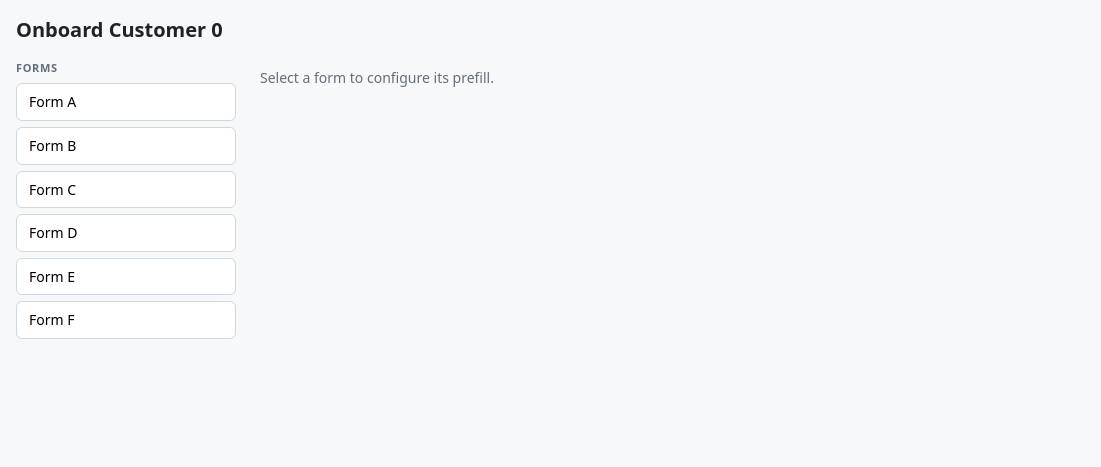
Test case: the prefill flow › turns prefill off for one form only
Check: the heading "Onboard Customer 0" is shown, box [16,16,223,43]
What coordinates should you click on to do the following:
click the button "Form D"
I would click on:
 (126, 233)
Its box is [16,214,236,252].
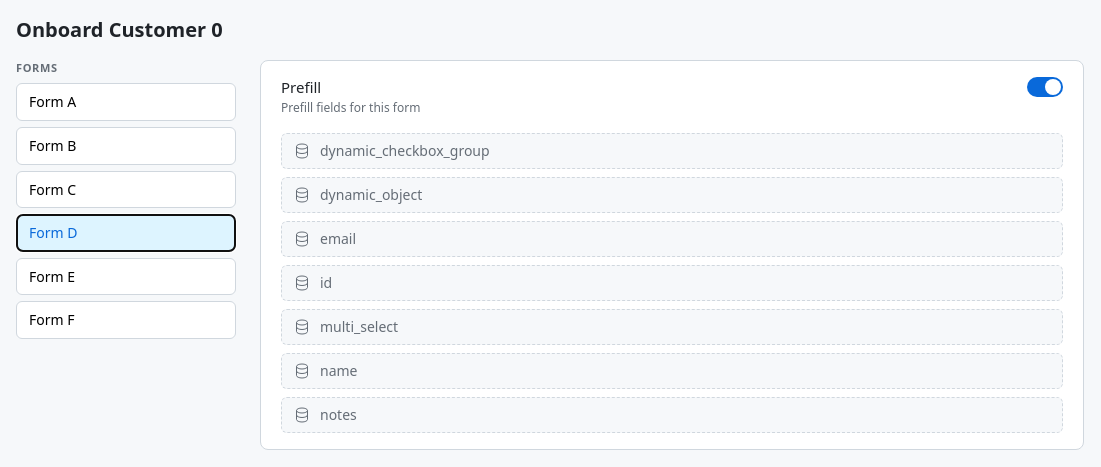
What coordinates should you click on to do the following:
click the switch named "Prefill fields for Form D"
I would click on:
 (1045, 87)
Its box is [1027,77,1063,97].
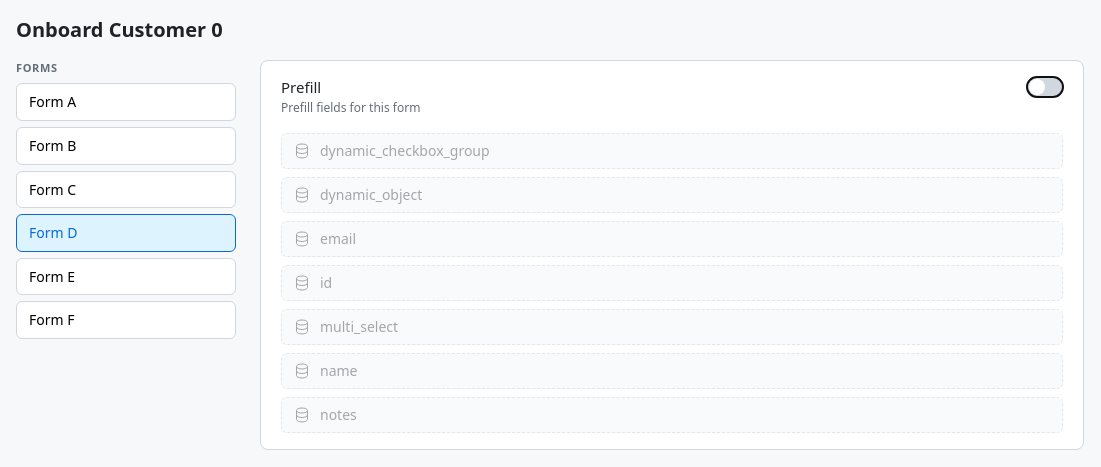
Check: the button with aria-label "email, no prefill configured" is disabled, box [281,221,1063,257]
What coordinates should you click on to do the following:
click the button "Form B"
I would click on:
 (126, 146)
Its box is [16,127,236,165].
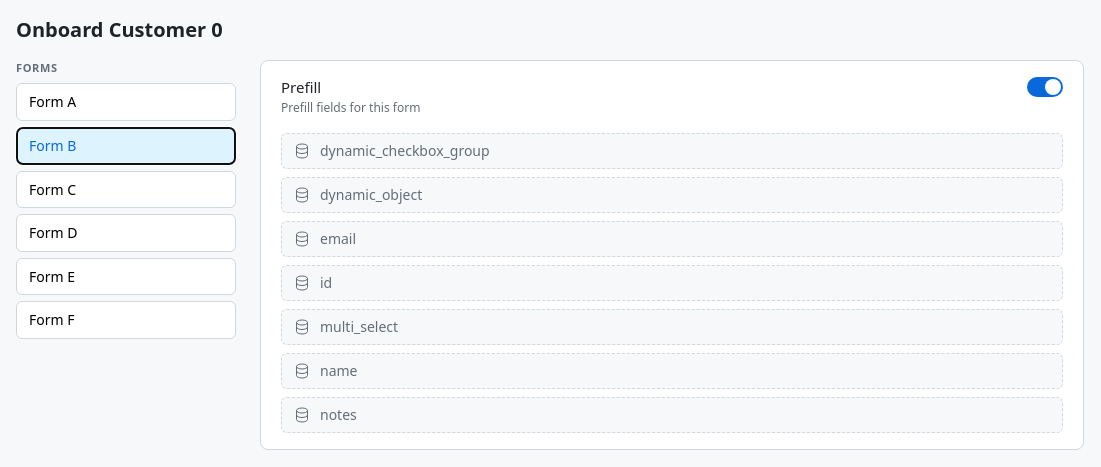
Check: the switch named "Prefill fields for Form B" is checked, box [1027,77,1063,97]
Check: the button with aria-label "email, no prefill configured" is enabled, box [281,221,1063,257]
